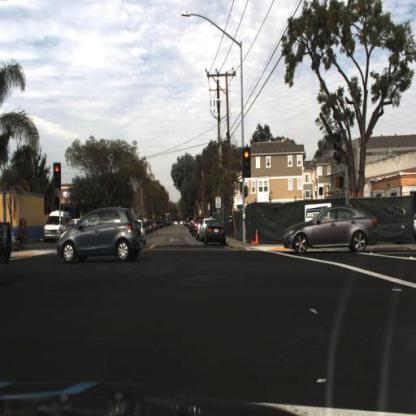car: (59, 207, 143, 267), (285, 207, 377, 259), (44, 210, 72, 244), (205, 219, 228, 248)
pedestrian: (15, 220, 29, 250)
trafficLight: (241, 145, 253, 178)
trafficLight-Red: (52, 163, 63, 193), (336, 176, 346, 192)
